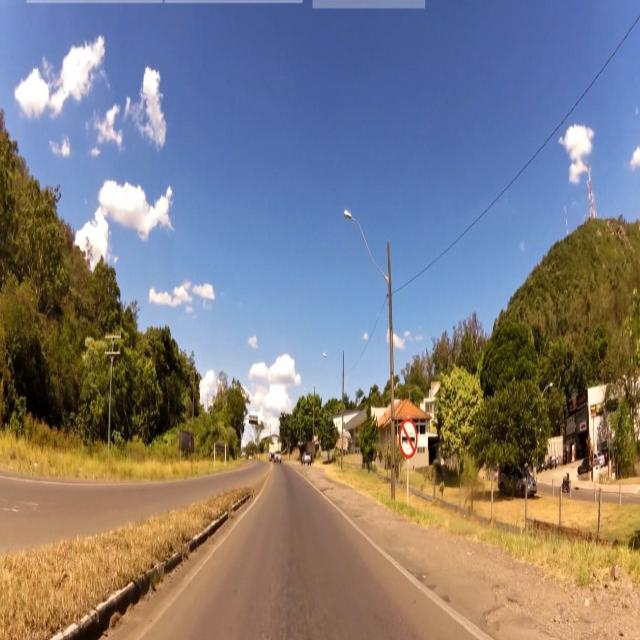R-7: (398, 419, 419, 461)
